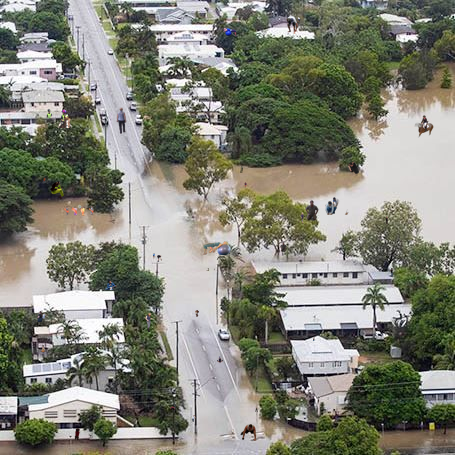Human: (44, 109, 72, 128), (320, 197, 349, 215), (145, 313, 172, 332), (201, 241, 231, 258), (49, 181, 73, 202), (414, 115, 434, 138), (65, 425, 93, 441), (64, 203, 94, 216), (116, 107, 127, 134), (305, 200, 319, 221), (240, 424, 257, 441), (286, 16, 301, 34), (348, 162, 359, 178), (223, 28, 238, 37), (37, 311, 49, 322), (105, 279, 117, 290), (298, 212, 304, 225), (280, 242, 287, 252), (217, 356, 223, 363), (390, 268, 394, 277), (157, 255, 162, 262), (41, 345, 45, 352), (195, 310, 199, 317), (192, 415, 196, 422), (42, 177, 46, 184), (206, 268, 215, 271), (240, 166, 243, 173), (3, 416, 6, 423), (170, 406, 175, 410), (255, 406, 258, 412), (313, 337, 315, 346), (231, 429, 234, 435), (386, 216, 388, 225), (244, 182, 247, 188), (153, 253, 156, 259), (406, 318, 409, 324)
